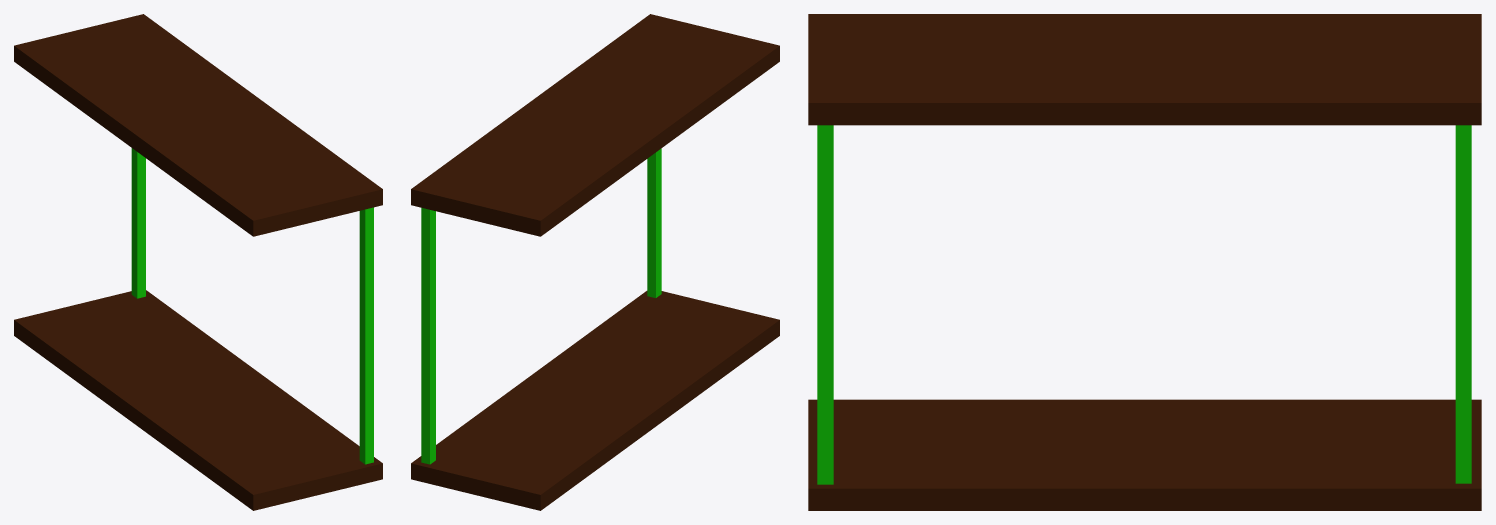
File: SM_PetiteEtagere.fbx
3 renders of one model, left to right at view 1: azimuth 30°, elevation 25°; view 2: azimuth 150°, elevation 25°; view 3: azimuth 270°, elevation 25°, orthographic. The views are drawn at different scales.
Visible parts, largest first — view 1: polySurface106; view 2: polySurface106; view 3: polySurface106.
Boxes of the visible parts, x1,y1,x2,y2 form: polySurface106: [14, 14, 382, 510]; polySurface106: [411, 14, 779, 510]; polySurface106: [808, 14, 1481, 510].
Size of the model in its own units: 15.03 by 32.14 by 48.05.
